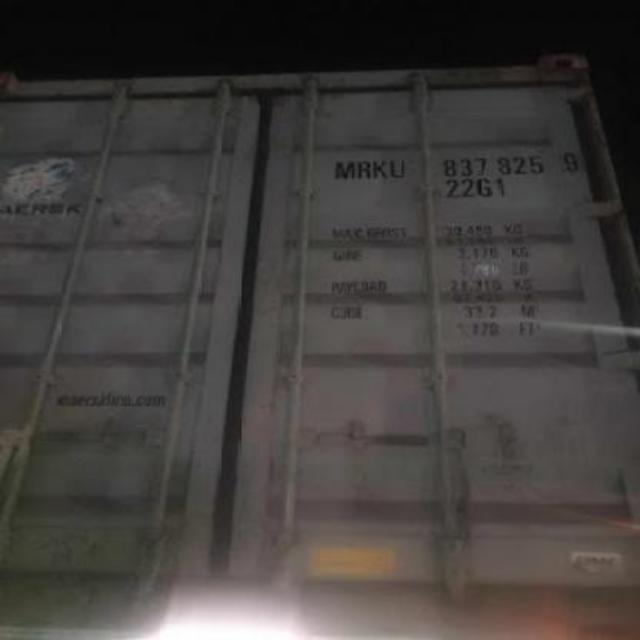2: (514, 154, 528, 174)
3: (458, 156, 474, 177)
5: (528, 152, 544, 175)
7: (474, 156, 488, 174)
8: (494, 154, 516, 174), (440, 157, 460, 177)
9: (564, 150, 582, 174)
K: (370, 158, 388, 180)
M: (332, 161, 358, 179)
R: (356, 158, 372, 180)
U: (388, 158, 406, 178)
